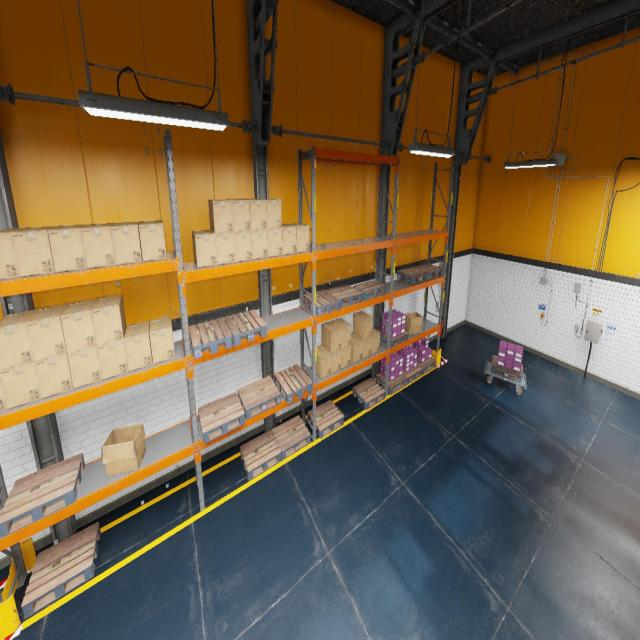box: (26, 303, 69, 361), (101, 423, 146, 477), (11, 226, 58, 277), (0, 309, 39, 370), (60, 298, 97, 352), (0, 362, 41, 409), (34, 353, 73, 399), (48, 225, 86, 272), (92, 294, 126, 345), (80, 223, 116, 268), (67, 346, 102, 389), (124, 321, 152, 372), (111, 222, 142, 265), (0, 227, 25, 279), (97, 339, 128, 380), (149, 316, 175, 364), (138, 220, 166, 262), (192, 230, 216, 267), (208, 199, 233, 233), (227, 199, 250, 231), (311, 344, 331, 379), (246, 198, 266, 230), (215, 232, 235, 264), (288, 223, 310, 252), (260, 199, 282, 228), (322, 321, 341, 353), (233, 230, 252, 262), (332, 318, 351, 349), (250, 228, 268, 260), (353, 310, 372, 340), (354, 332, 372, 358), (282, 223, 296, 255), (267, 228, 282, 257), (326, 348, 341, 374), (405, 312, 422, 334), (351, 332, 363, 362), (371, 328, 380, 354), (341, 346, 351, 369), (0, 379, 7, 411)
pallets: (21, 522, 101, 618), (0, 452, 85, 538), (198, 392, 245, 444), (240, 430, 281, 481), (237, 376, 281, 420), (189, 318, 232, 359), (272, 415, 310, 460), (224, 309, 267, 346), (274, 364, 312, 403), (308, 399, 344, 438), (352, 378, 386, 410), (304, 290, 340, 316), (491, 355, 523, 383), (326, 285, 363, 308), (353, 280, 386, 300), (376, 373, 407, 394), (377, 328, 408, 347), (397, 267, 429, 284), (413, 264, 443, 278), (402, 364, 422, 384), (417, 357, 436, 374)
